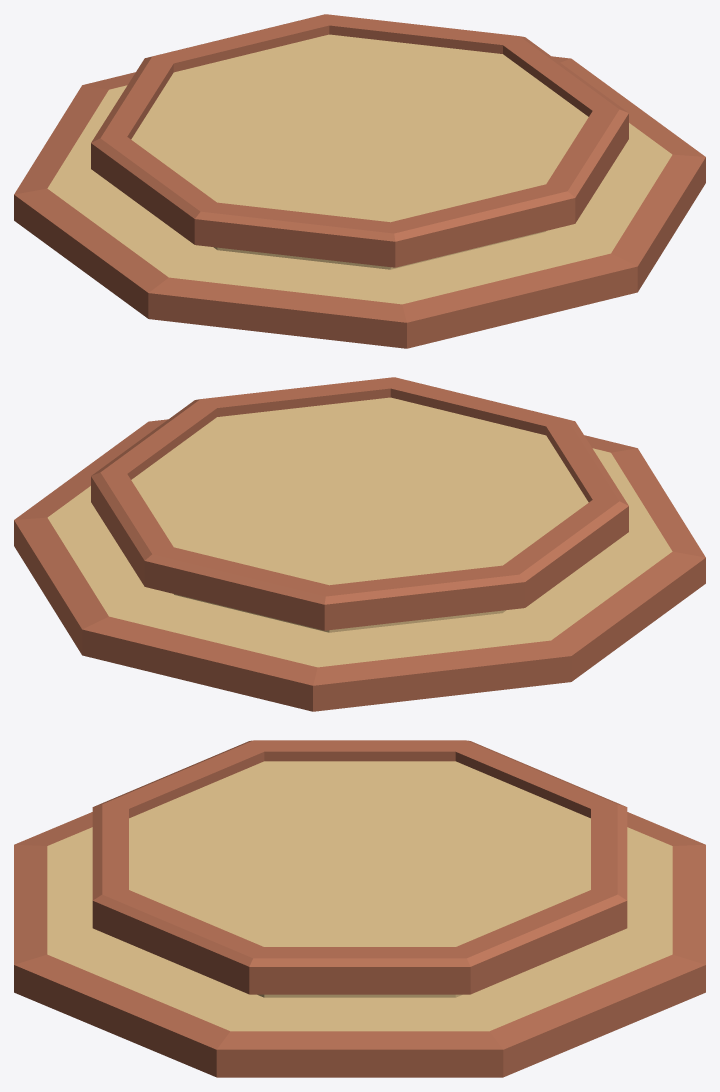
Rendered from FloorPlatform.fbx.
The picture shows the model from 3 angles, top to bottom: view 1: azimuth 30°, elevation 25°; view 2: azimuth 150°, elevation 25°; view 3: azimuth 270°, elevation 25°; orthographic projection. The views are drawn at different scales.
Parts seen in each view (by area): view 1: Cylinder; view 2: Cylinder; view 3: Cylinder.
Part boxes in pixels (left/top/right/bottom): Cylinder: left=14, top=14, right=705, bottom=348; Cylinder: left=14, top=377, right=705, bottom=711; Cylinder: left=14, top=740, right=705, bottom=1077.
Size of the model in its own units: 6761 by 903 by 6819.
